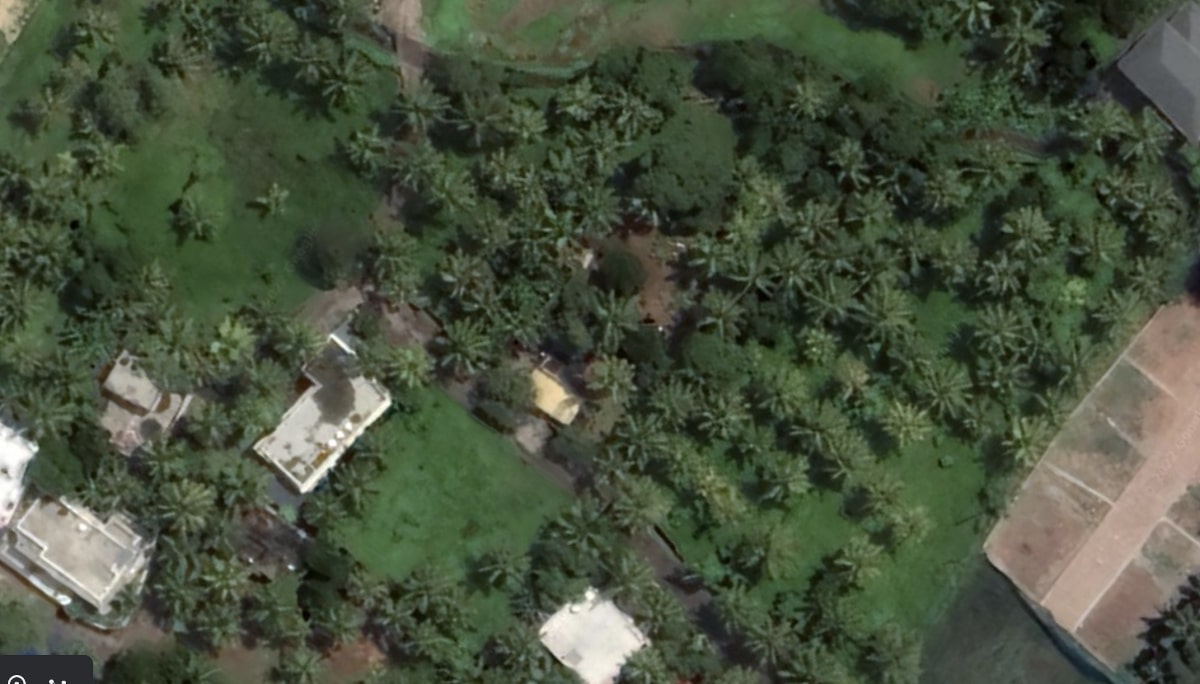coconut: (840, 273, 914, 339), (225, 16, 310, 72), (916, 352, 982, 422), (12, 378, 91, 436), (850, 452, 916, 521), (361, 227, 434, 289), (964, 291, 1037, 353), (843, 182, 908, 249), (725, 517, 799, 575), (546, 484, 612, 547), (432, 317, 502, 375), (1070, 207, 1127, 278), (430, 249, 497, 308), (11, 212, 78, 270), (405, 168, 481, 219), (153, 474, 221, 531), (674, 217, 743, 273), (996, 207, 1061, 266), (747, 361, 809, 420), (995, 8, 1054, 70), (590, 288, 647, 352), (750, 448, 816, 502), (1116, 106, 1169, 173), (996, 415, 1064, 467), (641, 369, 704, 425), (964, 136, 1023, 195), (688, 286, 750, 340), (163, 190, 225, 241), (577, 176, 632, 233), (759, 239, 814, 296), (776, 196, 841, 242), (747, 610, 801, 665), (83, 125, 132, 185), (1094, 289, 1151, 340), (323, 63, 380, 112), (383, 339, 436, 391), (406, 560, 457, 614), (448, 87, 503, 137), (207, 546, 268, 591), (785, 73, 841, 122), (321, 464, 378, 512), (472, 542, 531, 587), (915, 165, 967, 216), (509, 98, 555, 152), (61, 11, 124, 50), (347, 429, 404, 472), (297, 478, 340, 533), (160, 563, 208, 611), (317, 598, 365, 645), (597, 94, 655, 132), (1049, 348, 1099, 391), (186, 605, 238, 645), (879, 403, 927, 443)
